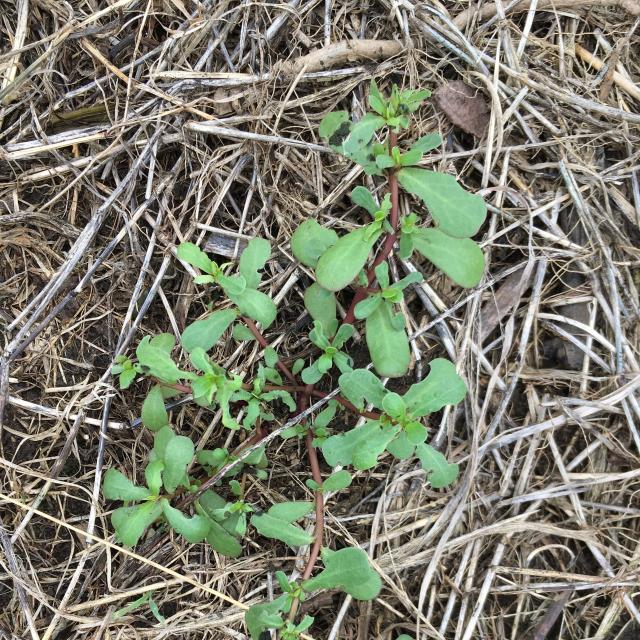Purslane: (104, 76, 487, 640)
